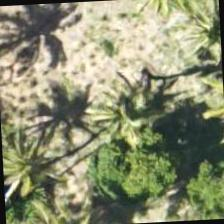Kelapa_Sawit: (79, 73, 174, 168), (1, 133, 77, 223), (167, 0, 222, 80)
